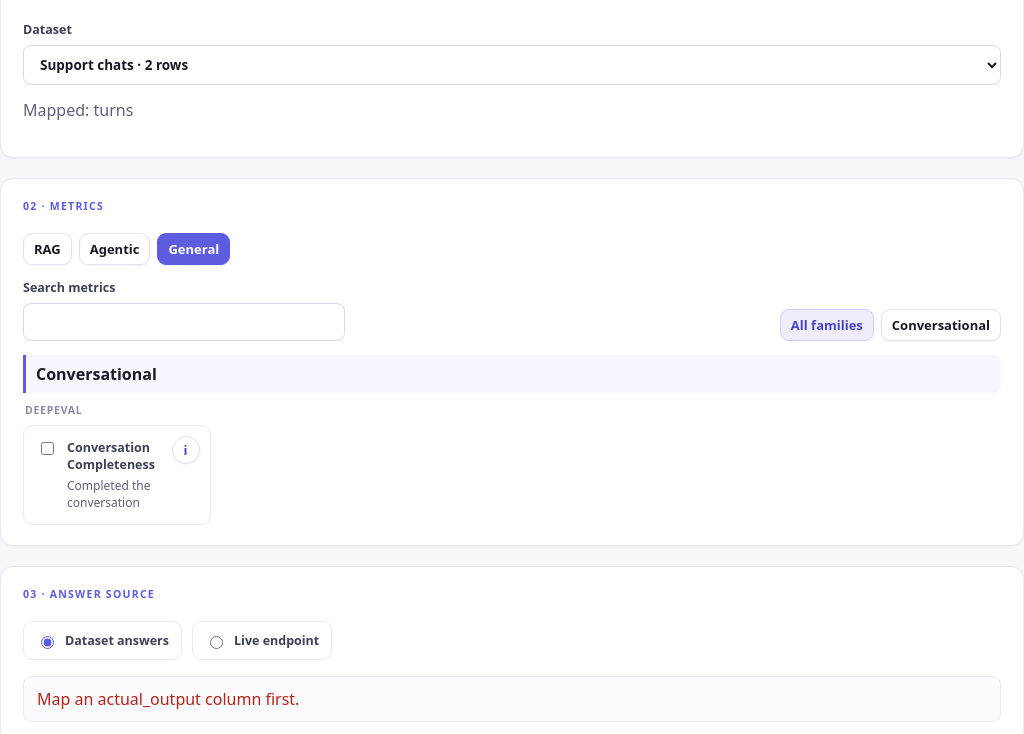
Test case: RunWizard › shows judge and conversation endpoint mappings
The width and height of the screenshot is (1024, 734).
Click the checkbox labelled "Conversation Completeness": (48, 449) [41, 442, 54, 455]
(page scrolled)
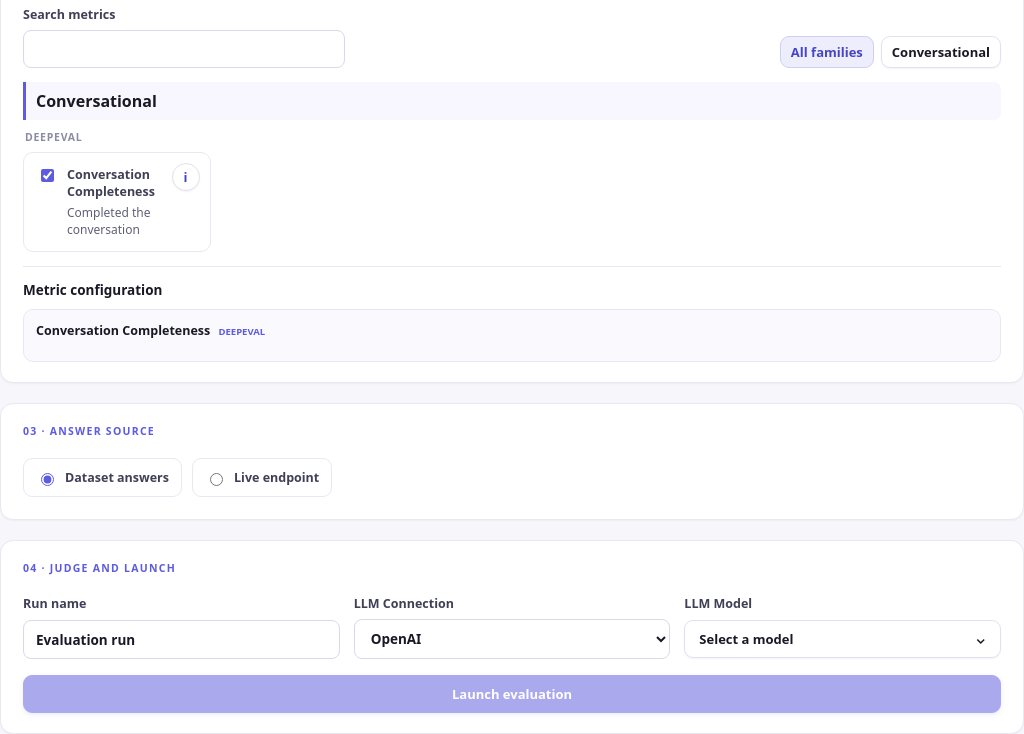
Check: the dropdown labelled "LLM Connection" is shown, box [354, 619, 670, 659]
Click the radio button labelled "Live endpoint": (216, 479) [210, 473, 223, 486]
(page scrolled)
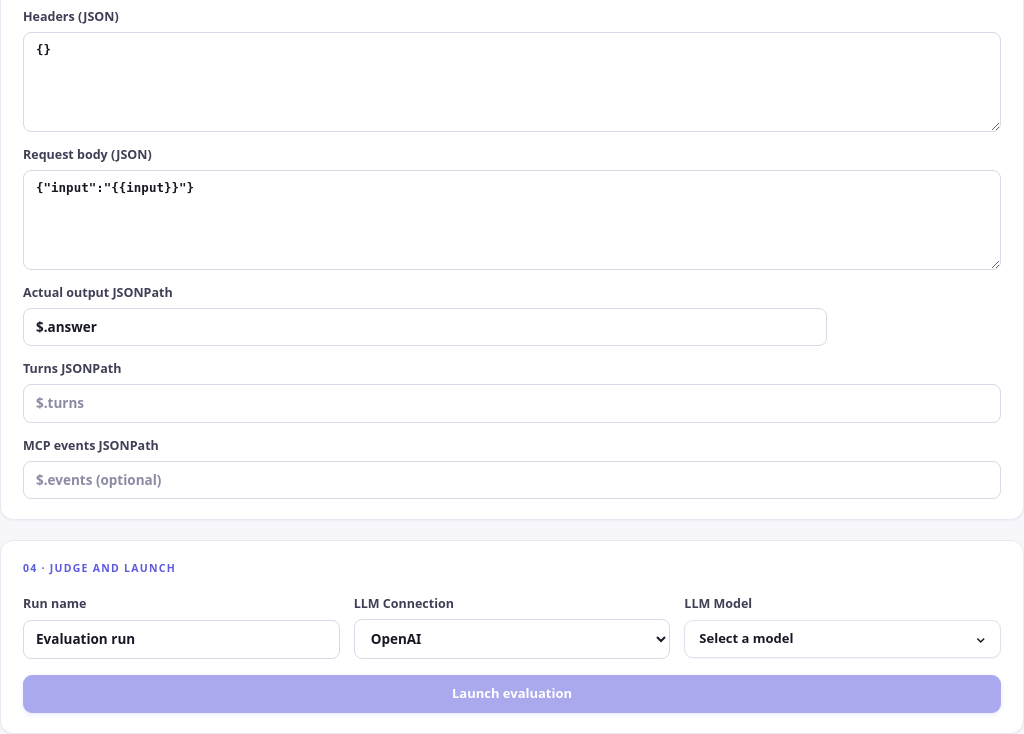
Check: the field labelled "Turns JSONPath" is shown, box [23, 384, 1001, 423]
Check: the field labelled "MCP events JSONPath" is shown, box [23, 461, 1001, 499]
